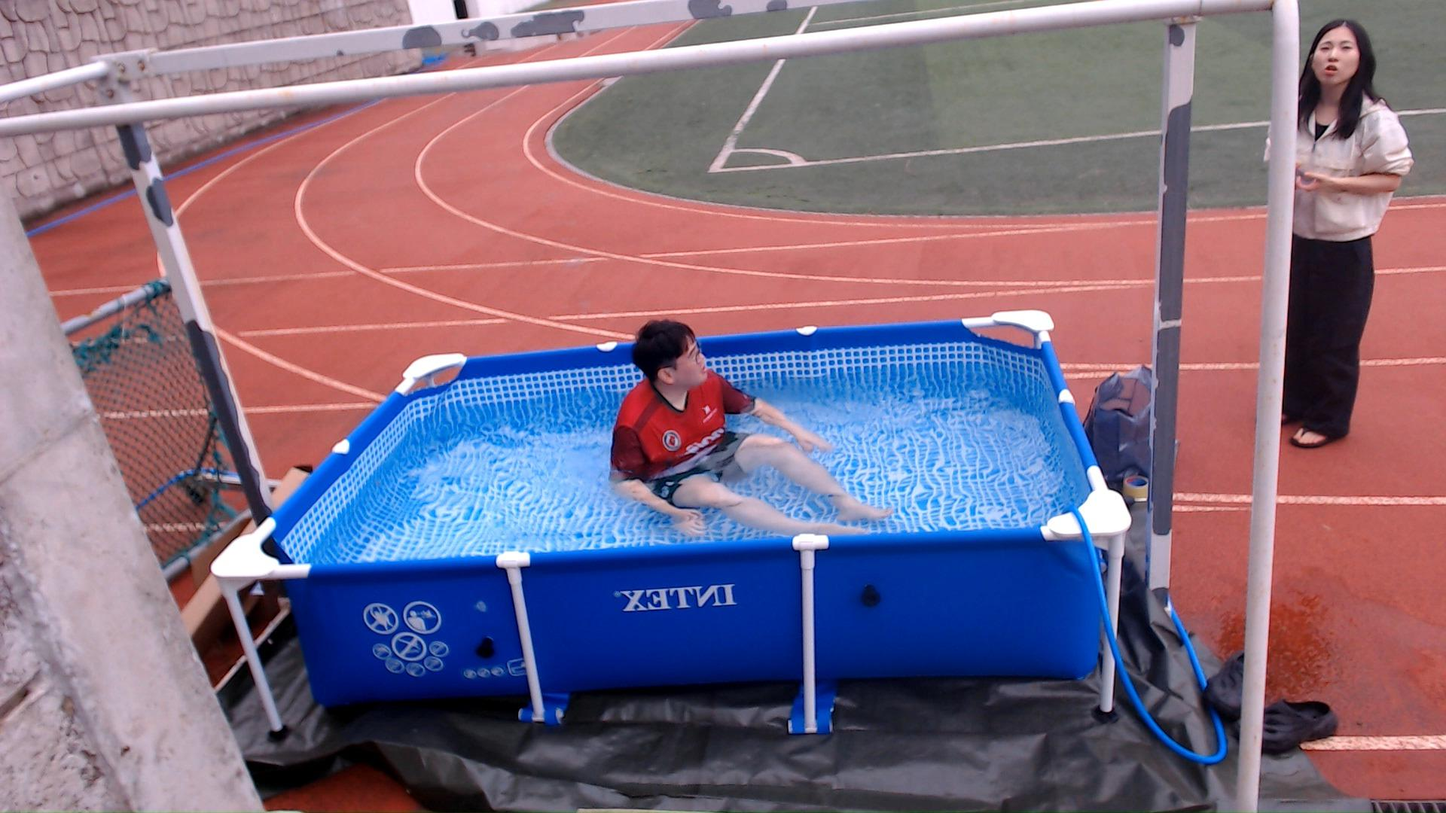Swimming: (542, 268, 876, 525)
